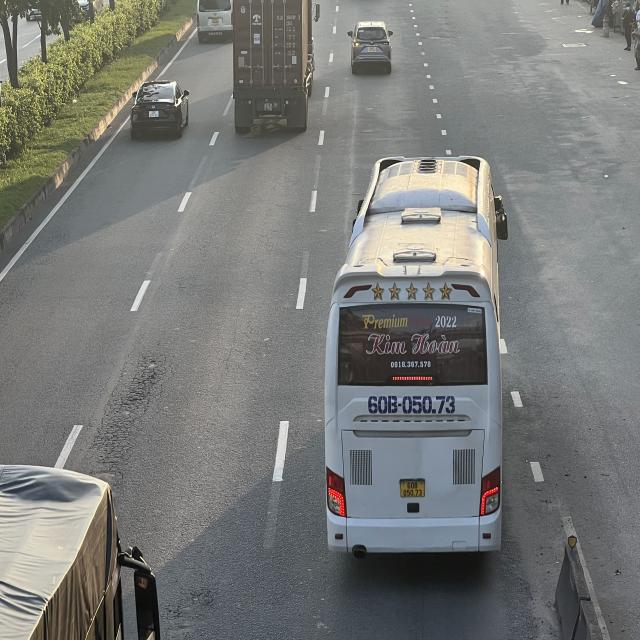car: (130, 78, 190, 138), (347, 17, 394, 72)
coach: (324, 153, 506, 559)
container: (235, 2, 321, 135)
van: (198, 0, 235, 41)
